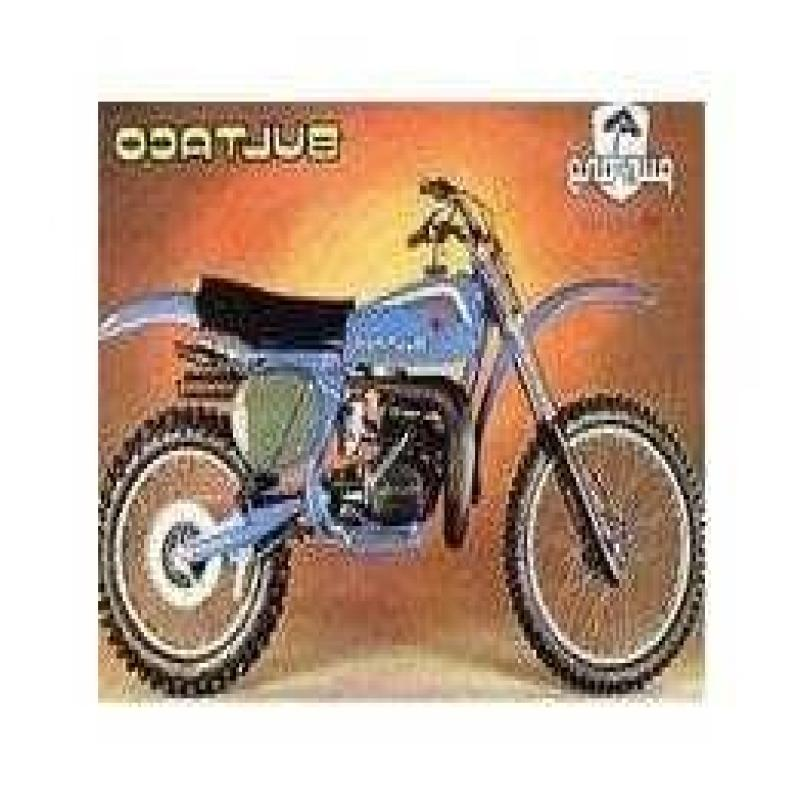bike: (92, 176, 715, 690)
